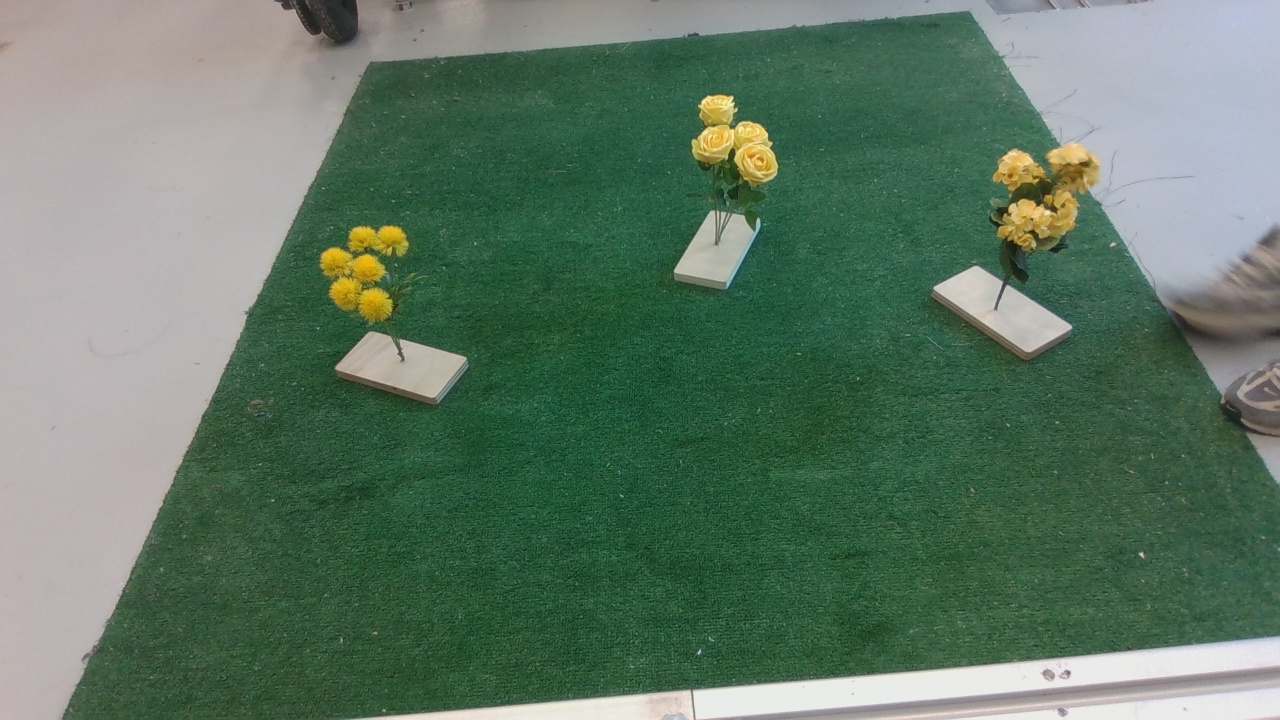dandelion: (315, 220, 427, 335)
geranium: (979, 133, 1115, 293)
rose: (687, 91, 785, 243)
